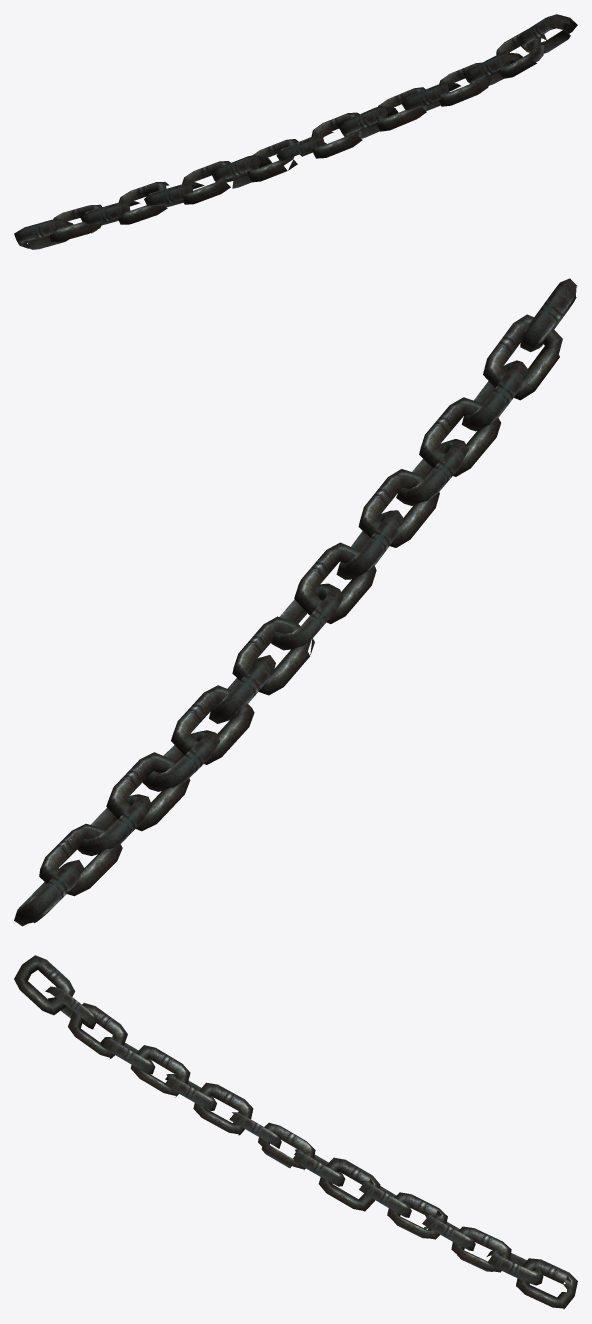
File: S2_Build_XSC119_L1.FBX
The picture shows the model from 3 angles, top to bottom: view 1: azimuth 90°, elevation 25°; view 2: azimuth 150°, elevation 25°; view 3: azimuth 270°, elevation 25°; orthographic projection. The views are drawn at different scales.
Parts seen in each view (by area): view 1: S2_Build_XSC119_L1; view 2: S2_Build_XSC119_L1; view 3: S2_Build_XSC119_L1.
Part boxes in pixels (x1=…): S2_Build_XSC119_L1: x1=14, y1=14, x2=577, y2=249; S2_Build_XSC119_L1: x1=14, y1=278, x2=577, y2=926; S2_Build_XSC119_L1: x1=14, y1=955, x2=577, y2=1309.
Size of the model in its own units: 1679 by 3551 by 6159.
